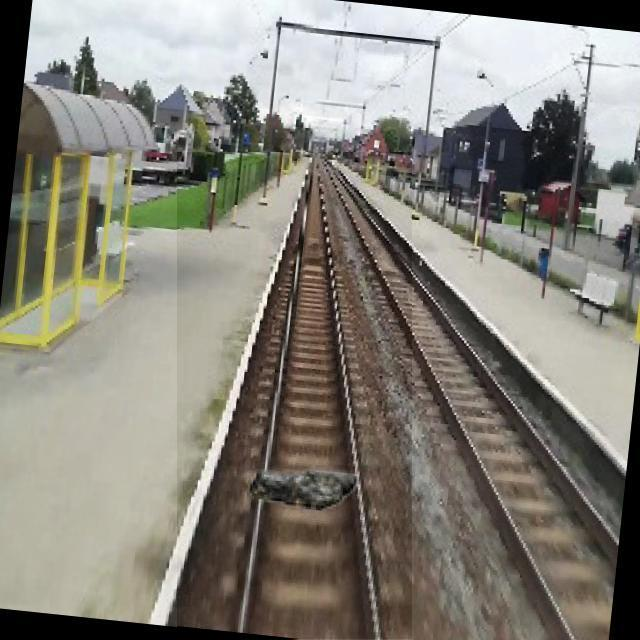rail: (178, 154, 413, 640)
